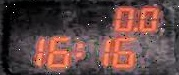-: (131, 26, 136, 31)
0: (113, 6, 133, 31), (138, 7, 157, 31)
1: (34, 37, 43, 66), (101, 38, 110, 67)
6: (46, 36, 69, 67), (111, 36, 134, 67)
X: (73, 41, 83, 57)
